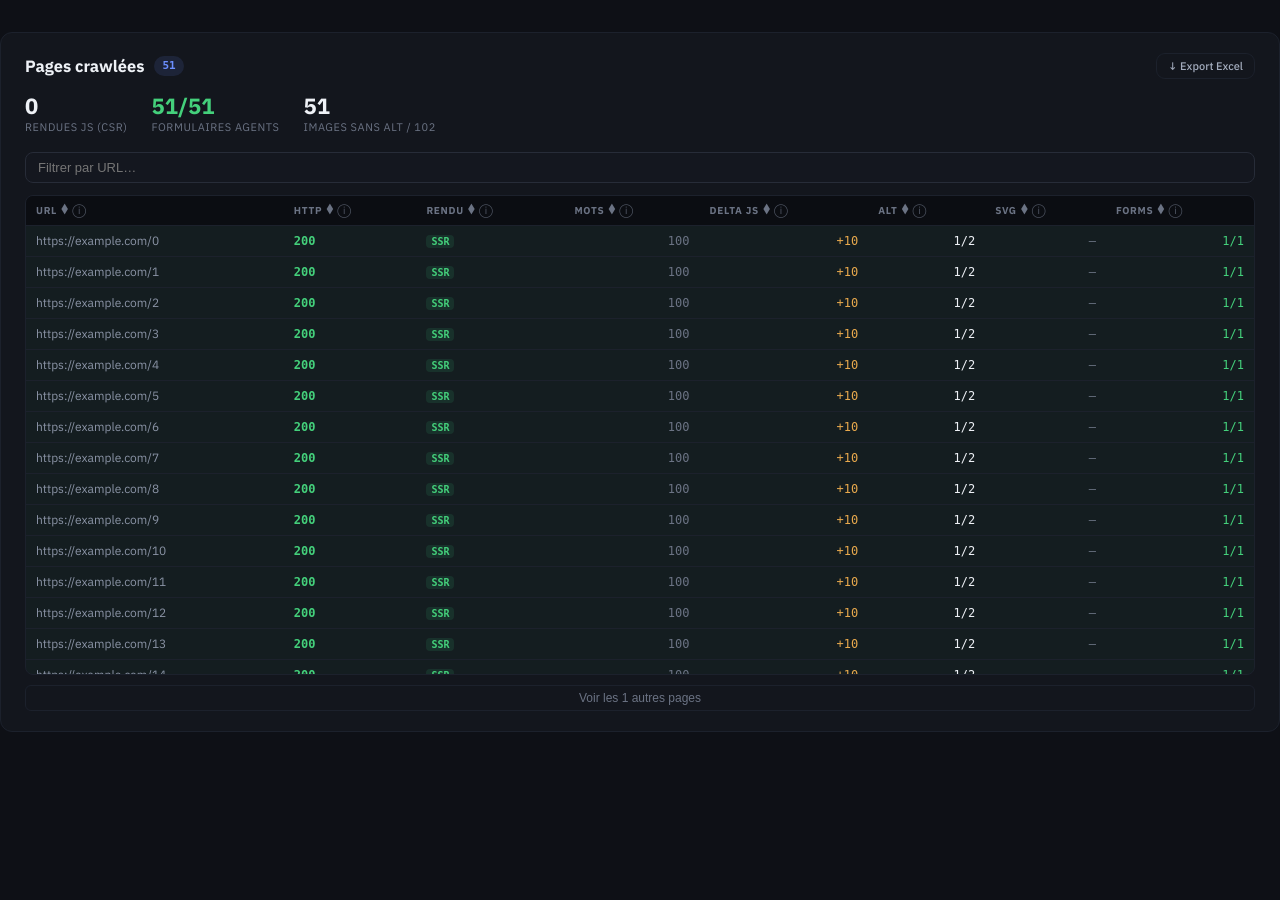
Test: expands a result set larger than fifty pages
The image size is (1280, 900).
Step 1. Click the button "Voir les 1 autres pages" → (640, 698), box [25,684,1255,710]
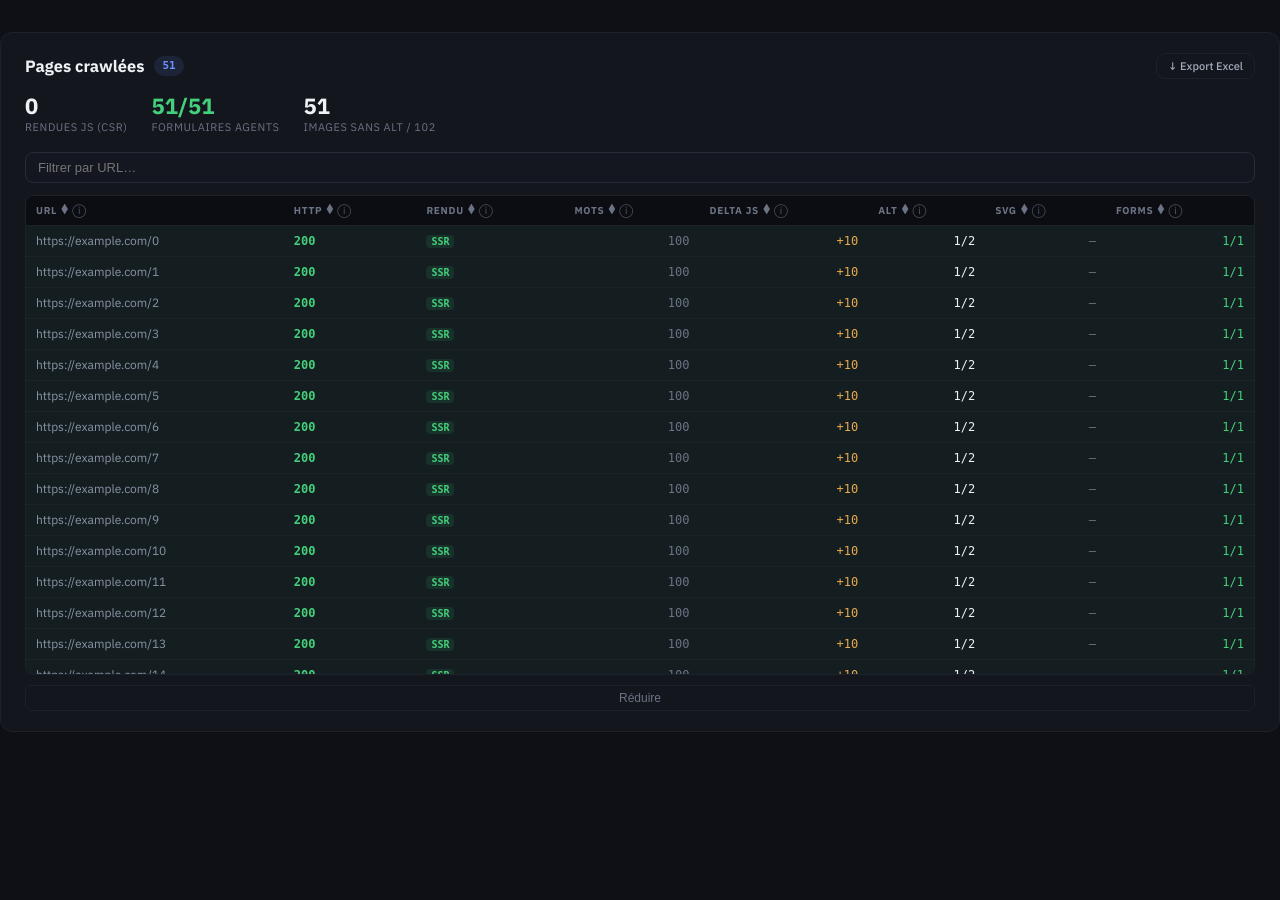
Check: the button "Réduire" is shown, box [25,684,1255,710]
